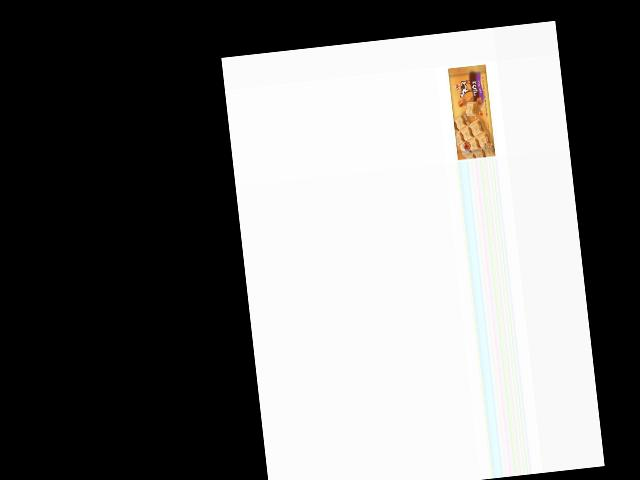chocolate: (447, 61, 498, 160)
